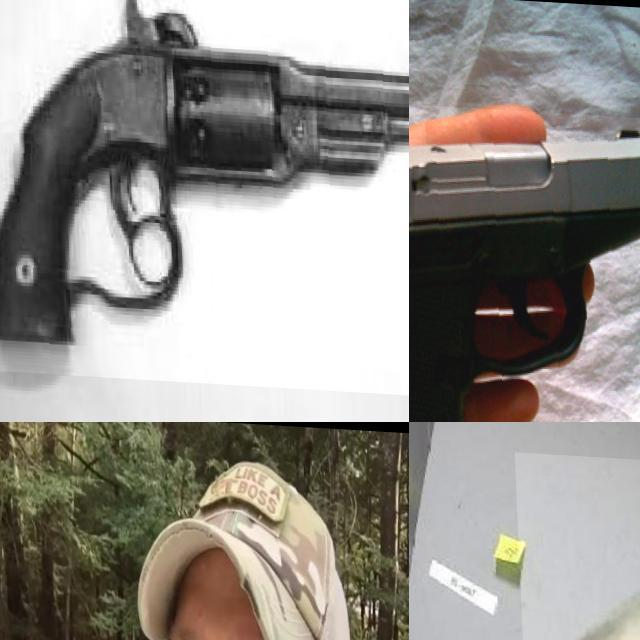-: (511, 449, 640, 640), (0, 422, 88, 640)
gun-knife-thesis - v11 Yolov5 augmented: (0, 0, 409, 397), (409, 94, 640, 422)
